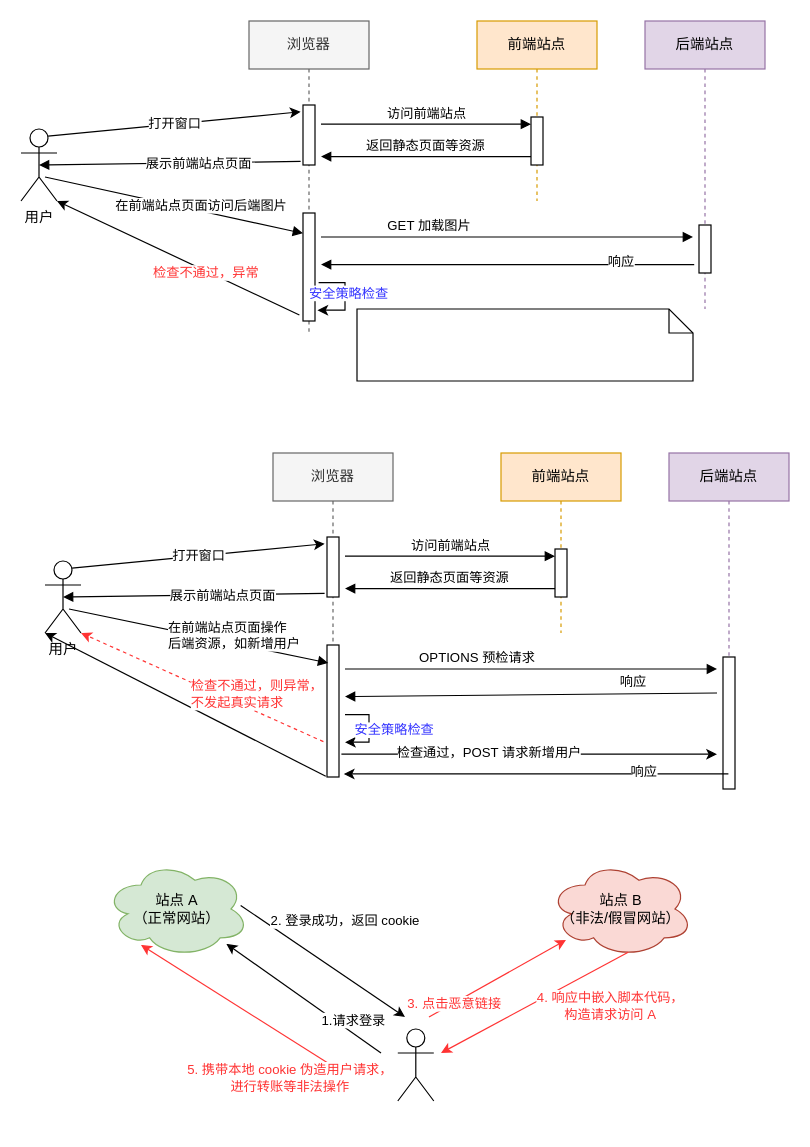
Image size: 810x1147. Some labels were removed from this diagram. Here are the shapes that lost their labels. From the top down, the centre of each, then its label:
At (x=524, y=344): "浏览器对后端站点的 HTTP 响应进行检查，如果其允许当前前端站点的跨站请求，则正常加载后端站点 HTTP 响应，在用户窗口展示出来".
At (x=415, y=1064): "用户浏览器".
